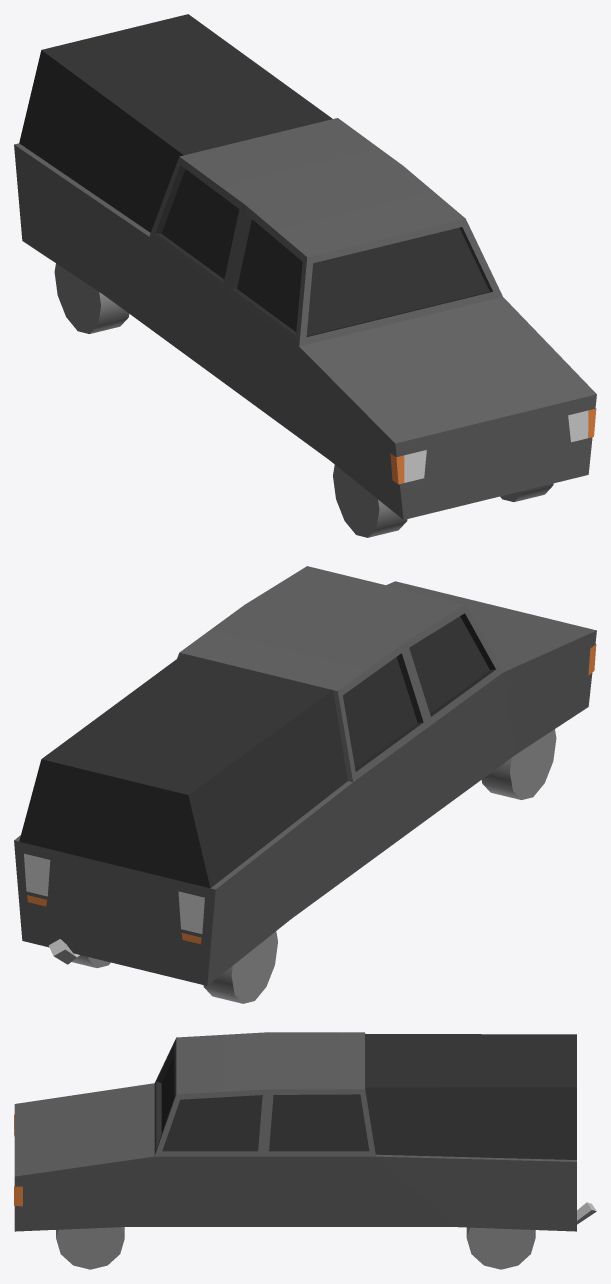
Rendered from hearse_car_01.fbx.
3 views of the same model, one above another, from view 1: azimuth 30°, elevation 25°; view 2: azimuth 150°, elevation 25°; view 3: azimuth 270°, elevation 25° (orthographic). The views are drawn at different scales.
Parts seen in each view (by area): view 1: hearse_car_01; view 2: hearse_car_01; view 3: hearse_car_01.
Boxes of the visible parts, x1,y1,x2,y2 form: hearse_car_01: (14,14,596,537); hearse_car_01: (14,566,596,1003); hearse_car_01: (14,1032,596,1269).
Size of the model in its own units: 1.6 by 1.8 by 5.37.
